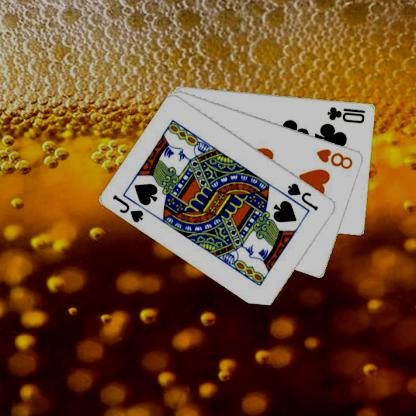10C: (325, 104, 367, 124)
8H: (314, 146, 354, 170)
JS: (110, 192, 146, 224), (285, 180, 320, 212)
